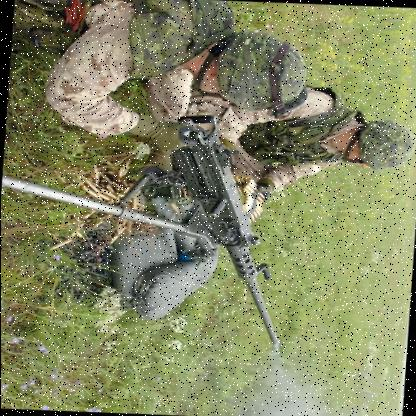rifle: (152, 115, 296, 356)
